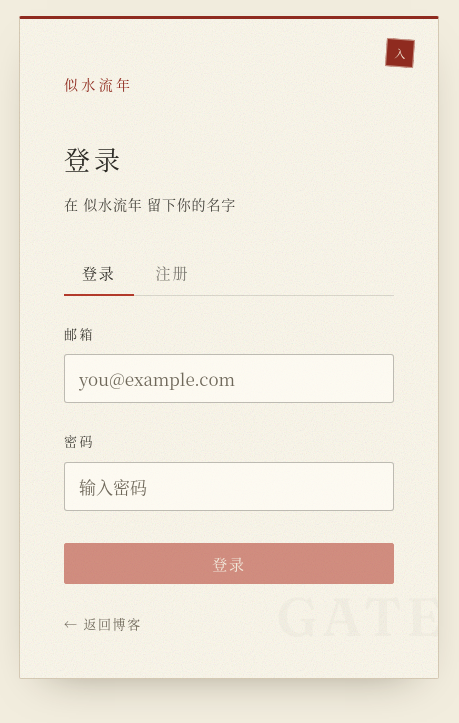
Test: public form feedback › announces a rejected login request and leaves an explicit retry action
Type "traveler@example.com" into the field labelled "邮箱" at (229, 379), box [64, 354, 394, 403]
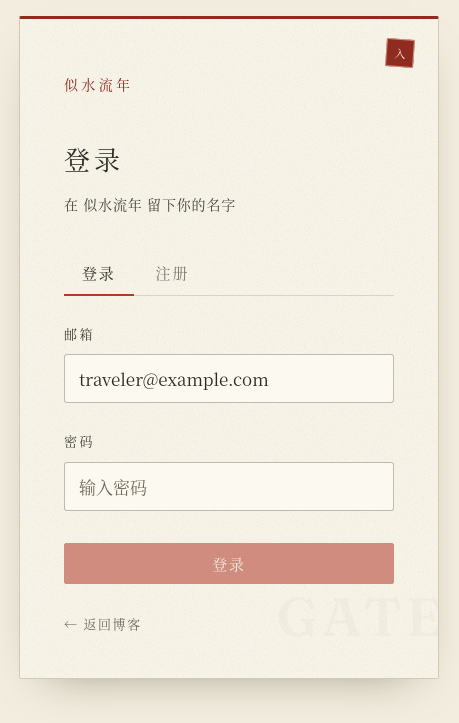
Type "mistake" into the password field labelled "密码" at (229, 487), box [64, 462, 394, 511]
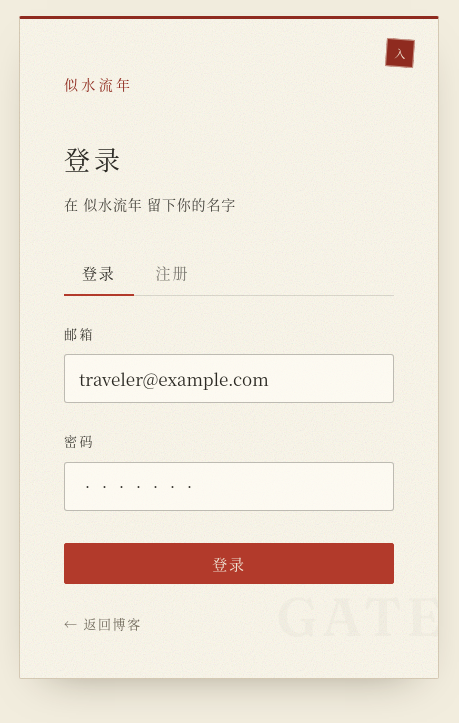
Click the button "登录" at (229, 564), box [64, 543, 394, 584]
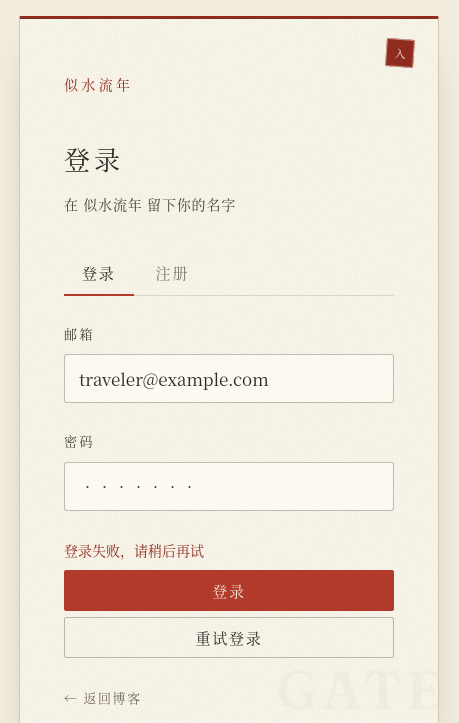
Expected: the message reads "登录失败，请稍后再试", [64, 540, 204, 560]
Expected: the button "重试登录" is enabled, [64, 617, 394, 658]
